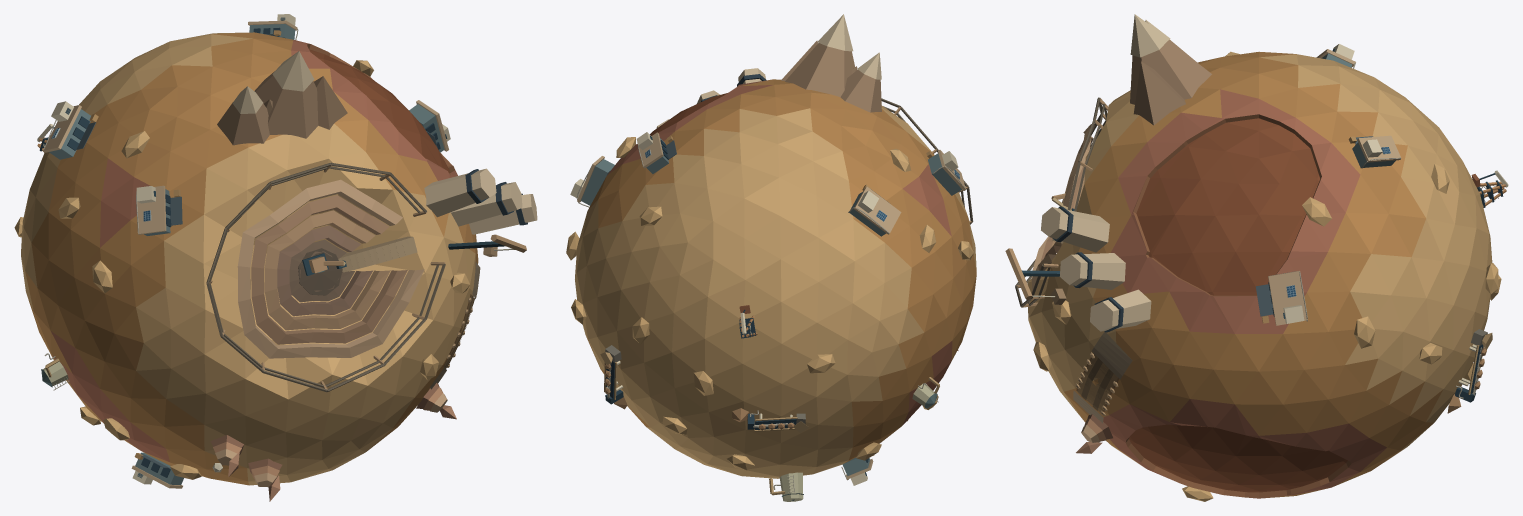
The model's file is earth-mobile.glb.
The picture shows the model from 3 angles, left to right: view 1: azimuth 30°, elevation 25°; view 2: azimuth 150°, elevation 25°; view 3: azimuth 270°, elevation 25°; orthographic projection. The views are drawn at different scales.
Visible parts, largest first — view 1: Terrain • modeled surfaces, Structures • modeled surfaces, Activity_haul-truck_road • modeled surfaces; view 2: Terrain • modeled surfaces, Structures • modeled surfaces; view 3: Terrain • modeled surfaces, Structures • modeled surfaces, Activity_haul-truck_road • modeled surfaces.
Boxes of the visible parts, <box> form: Terrain • modeled surfaces: <box>21,32,478,485</box>; Structures • modeled surfaces: <box>14,14,537,501</box>; Activity_haul-truck_road • modeled surfaces: <box>429,262,480,389</box>; Terrain • modeled surfaces: <box>575,79,976,478</box>; Structures • modeled surfaces: <box>566,14,973,501</box>; Terrain • modeled surfaces: <box>1027,51,1492,498</box>; Structures • modeled surfaces: <box>1005,14,1508,501</box>; Activity_haul-truck_road • modeled surfaces: <box>1073,331,1132,423</box>.
Bounding box in the file's own units: 2.15 × 2.33 × 2.3.
